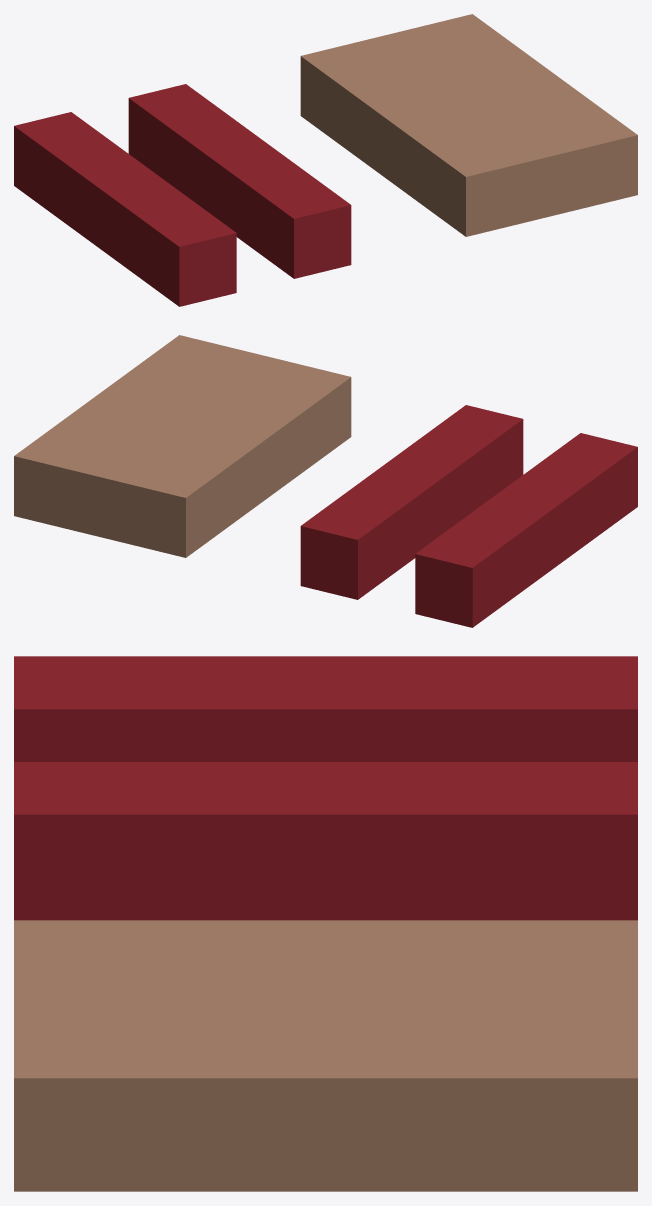
File: Picnic_Food_Hotdog_Raw.glb
3 views of the same model, one above another, from view 1: azimuth 30°, elevation 25°; view 2: azimuth 150°, elevation 25°; view 3: azimuth 270°, elevation 25° (orthographic). The views are drawn at different scales.
Parts seen in each view (by area): view 1: Picnic_Food_Hotdog_Raw; view 2: Picnic_Food_Hotdog_Raw; view 3: Picnic_Food_Hotdog_Raw.
Boxes of the visible parts, x1,y1,x2,y2 form: Picnic_Food_Hotdog_Raw: [14, 14, 637, 306]; Picnic_Food_Hotdog_Raw: [14, 335, 637, 627]; Picnic_Food_Hotdog_Raw: [14, 656, 637, 1191].
Size of the model in its own units: 0.8 by 0.1 by 0.5.
1 material, 1 textured.
